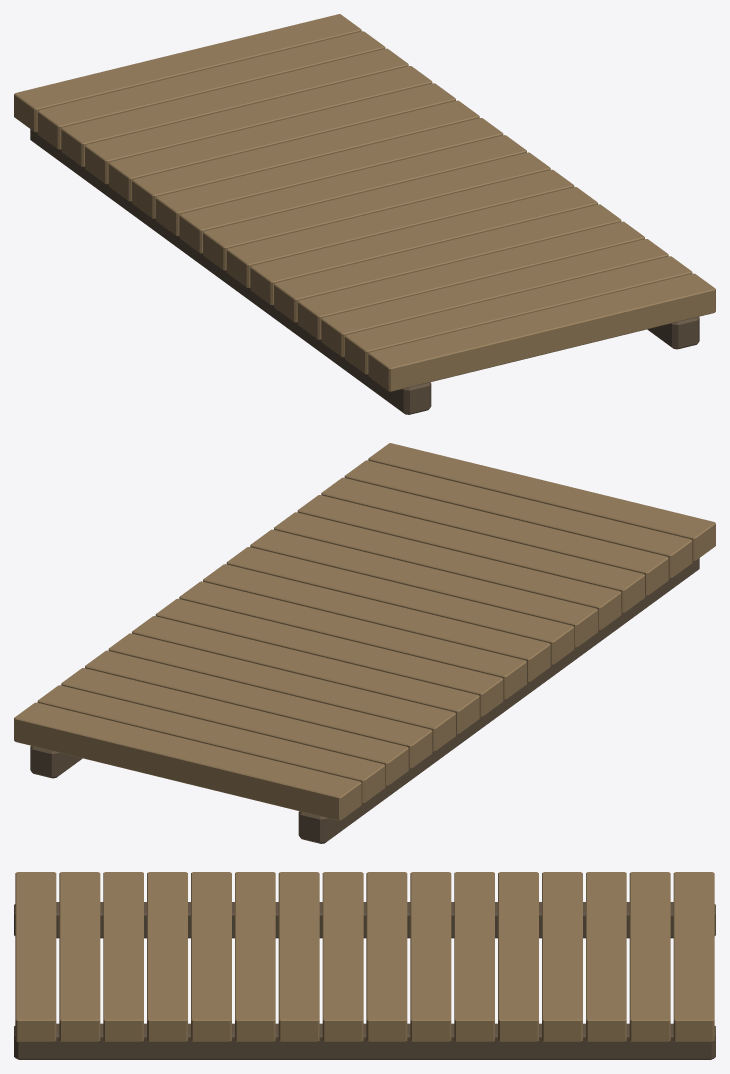
Rendered from bridge.glb.
3 renders of one model, top to bottom at view 1: azimuth 30°, elevation 25°; view 2: azimuth 150°, elevation 25°; view 3: azimuth 270°, elevation 25°, orthographic. The views are drawn at different scales.
Parts seen in each view (by area): view 1: bridge__body; view 2: bridge__body; view 3: bridge__body.
Part boxes in pixels (x1=…): bridge__body: x1=14, y1=14, x2=715, y2=414; bridge__body: x1=14, y1=443, x2=715, y2=843; bridge__body: x1=14, y1=872, x2=715, y2=1059.
Bounding box in the file's own units: 2 × 0.3 × 4.
